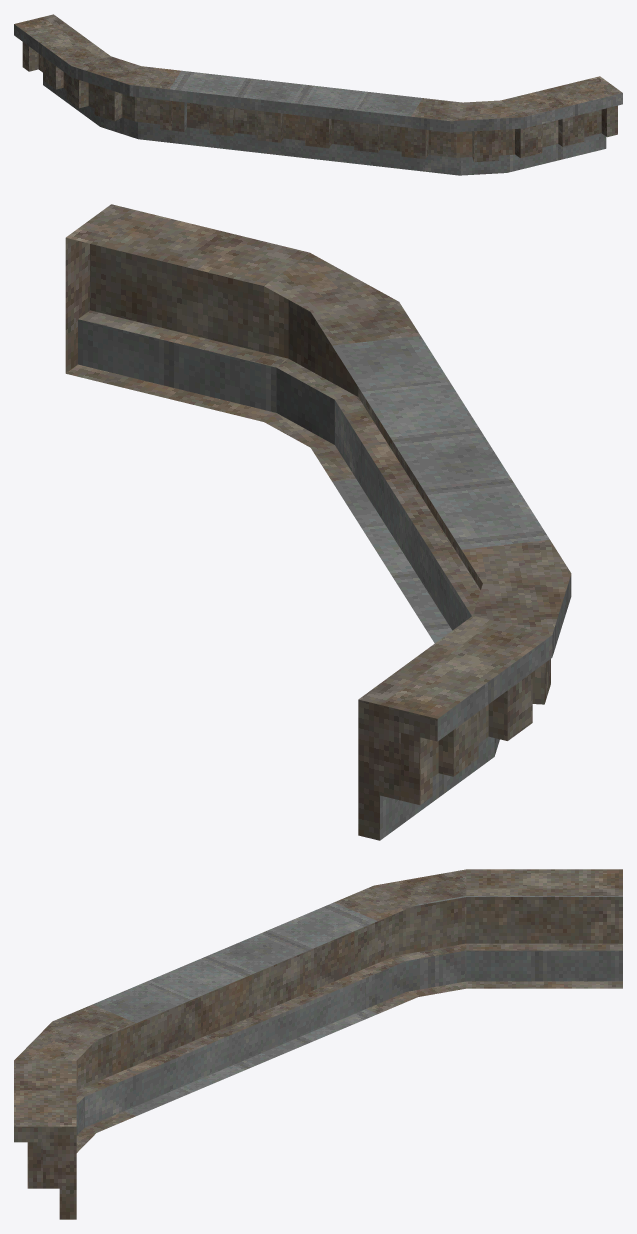
File: wall_cladding_45degrees_intriciate_01.gltf
The picture shows the model from 3 angles, top to bottom: view 1: azimuth 30°, elevation 25°; view 2: azimuth 150°, elevation 25°; view 3: azimuth 270°, elevation 25°; orthographic projection. The views are drawn at different scales.
Parts seen in each view (by area): view 1: wall_cladding_45degrees_intriciate_01; view 2: wall_cladding_45degrees_intriciate_01; view 3: wall_cladding_45degrees_intriciate_01.
Part boxes in pixels (<box>): wall_cladding_45degrees_intriciate_01: <box>14,14,622,175</box>; wall_cladding_45degrees_intriciate_01: <box>65,204,571,840</box>; wall_cladding_45degrees_intriciate_01: <box>14,869,622,1219</box>.
Bounding box in the file's own units: 3.57 × 0.6 × 3.57.
Materials: 1 (1 with a texture image).
